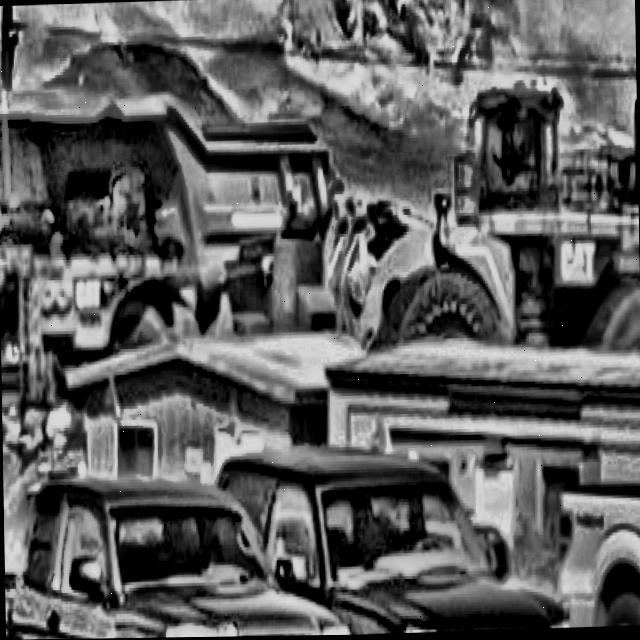dump_truck: (0, 0, 326, 398)
light_vehicle: (284, 380, 579, 637), (2, 453, 344, 640)
